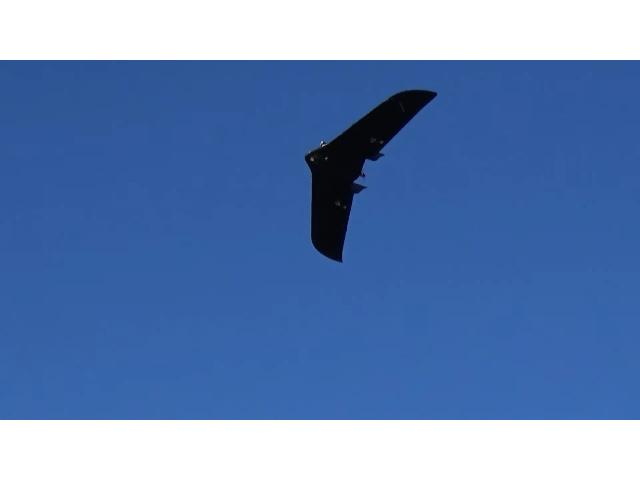Anti-Drone: (286, 78, 442, 270)
